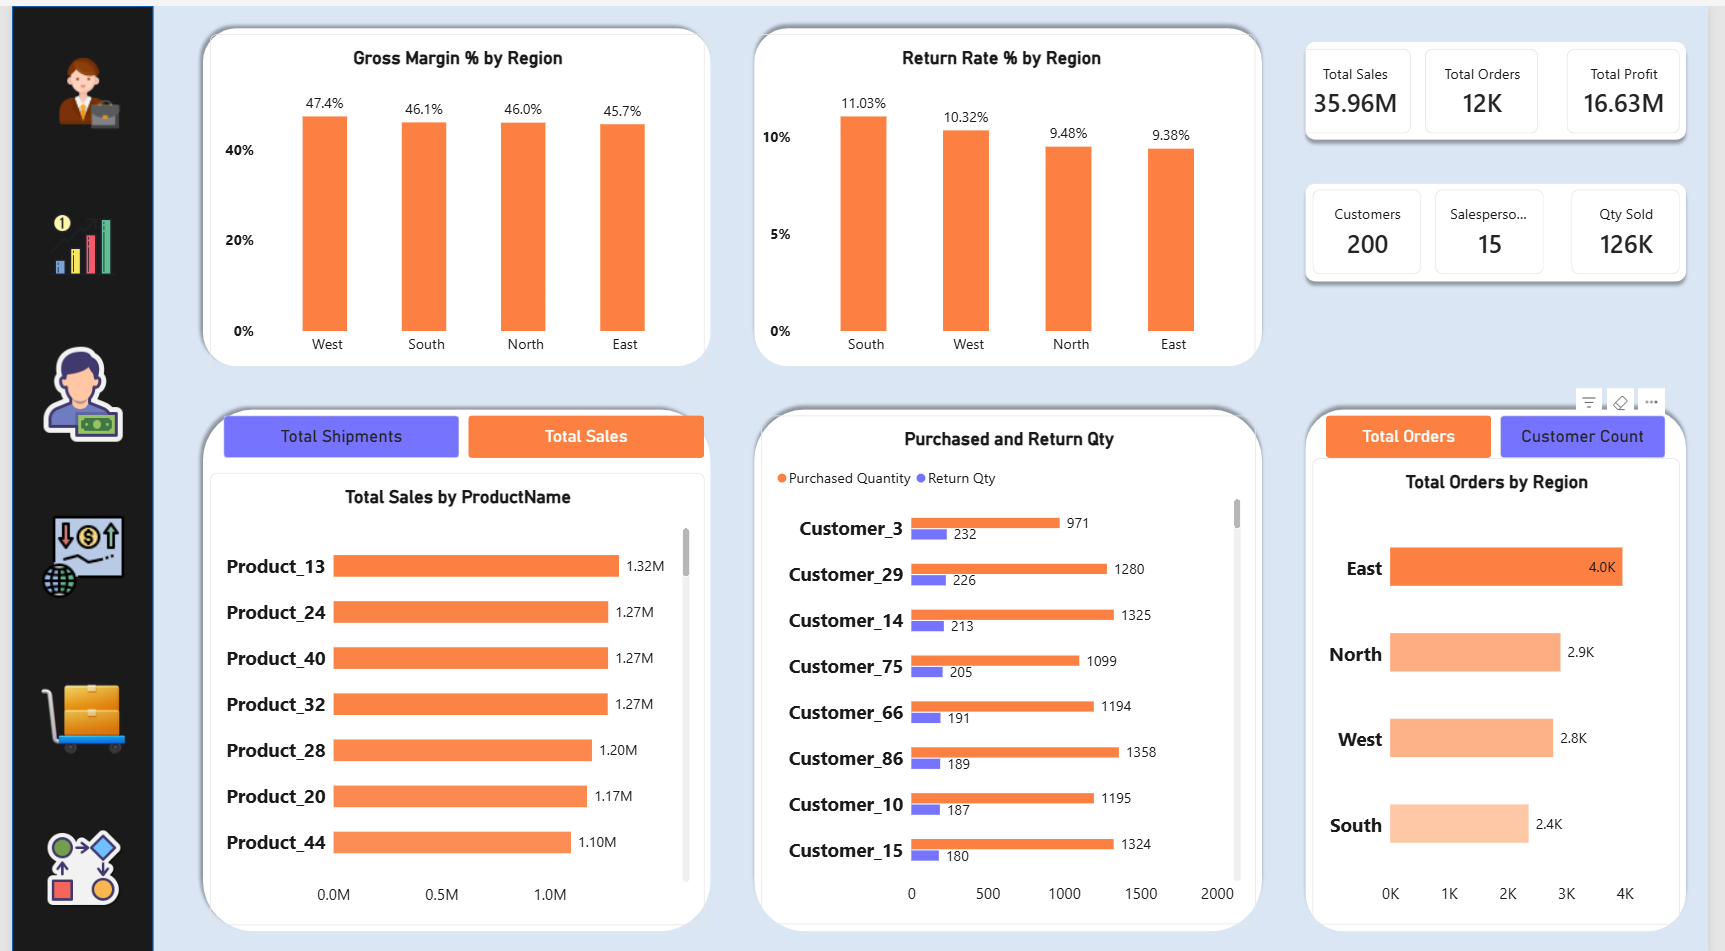

Layout of this report page (visuals, bound fields, positions):
{"tool":"powerbi","page":{"name":"Sales dashbaord","canvas":[1920,1080],"ordinal":1},"visuals":[{"type":"shape","box":[832,16,592,400],"z":0},{"type":"shape","box":[208,16,592,400],"z":1000},{"type":"shape","box":[832,448,592,608],"z":2000},{"type":"shape","box":[208,448,592,608],"z":3000},{"type":"clusteredBarChart","fields":{"Category":["DimProduct.ProductName"],"Y":["_Measure.Total Sales"]},"box":[224,528,560,512],"z":4000},{"type":"shape","box":[0,0,160,1072],"z":5000},{"type":"image","box":[16,224,128,96],"z":6000},{"type":"image","box":[16,576,128,96],"z":7000},{"type":"image","box":[16,384,128,112],"z":8000},{"type":"image","box":[16,48,128,96],"z":9000},{"type":"image","box":[16,752,128,112],"z":10000},{"type":"image","box":[16,928,128,96],"z":11000},{"type":"shape","box":[1456,448,448,608],"z":12000},{"type":"cardVisual","fields":{"Data":["_Measure.Total Profit"]},"box":[1760,48,128,96],"z":13000,"group":"g1"},{"type":"cardVisual","fields":{"Data":["_Measure.Qty Sold{Actual}"]},"box":[1764.7,208,123.3,96],"z":13000,"group":"g2"},{"type":"clusteredBarChart","title":"Purchased and Return Qty ","fields":{"Category":["DimCustomer.CustomerName"],"Y":["Sum(Fact_Sales.Quantity)","Sum(Fact_Returns.ReturnQty)"]},"box":[848,464,560,576],"z":13000},{"type":"clusteredBarChart","fields":{"Category":["Dim_Region.Region"],"Y":["_Measure.Customer Count"]},"box":[1472,512,416,528],"z":14000},{"type":"cardVisual","fields":{"Data":["_Measure.Total Sales"]},"box":[1456,48,128,96],"z":15000,"group":"g1"},{"type":"cardVisual","fields":{"Data":["CountNonNull(DimCustomer.CustomerKey)"]},"box":[1472,208,123.3,96],"z":15000,"group":"g2"},{"type":"advancedSlicerVisual","fields":{"Values":["Sales & Customer Parameter.Region & Customer Parameter"]},"box":[1488,464,384,48],"z":15000},{"type":"cardVisual","fields":{"Data":["_Measure.Total Orders"]},"box":[1600,48,128,96],"z":16000,"group":"g1"},{"type":"cardVisual","fields":{"Data":["CountNonNull(Dim_Salesperson.SalespersonKey)"]},"box":[1610.7,208,123.3,96],"z":16000,"group":"g2"},{"type":"advancedSlicerVisual","fields":{"Values":["Shipments & Sales.Shipments & Sales"]},"box":[240,464,544,48],"z":16000},{"type":"columnChart","fields":{"Category":["Dim_Region.Region"],"Y":["_Measure.Gross Margin %"]},"box":[224,32,560,384],"z":17000},{"type":"columnChart","fields":{"Category":["Dim_Region.Region"],"Y":["_Measure.Return Rate %"]},"box":[832,32,576,384],"z":18000},{"type":"shape","box":[1456,192,448,128],"z":19000},{"type":"shape","box":[1456,32,448,128],"z":20000},{"type":"group","id":"g1","title":"Group 1","box":[1456,48,432,96],"z":21000},{"type":"group","id":"g2","title":"Group 1","box":[1472,208,416,96],"z":22000}]}

Visuals, with their boxes in screenshot pixels (x1, y1, x2, y2), scaled from the page's 1920x1080 canvas onto the 1725x951 screenshot:
shape: left=748, top=14, right=1279, bottom=366
shape: left=187, top=14, right=719, bottom=366
shape: left=748, top=394, right=1279, bottom=930
shape: left=187, top=394, right=719, bottom=930
clusteredBarChart - DimProduct.ProductName x _Measure.Total Sales: left=201, top=465, right=704, bottom=916
shape: left=0, top=0, right=144, bottom=944
image: left=14, top=197, right=129, bottom=282
image: left=14, top=507, right=129, bottom=592
image: left=14, top=338, right=129, bottom=437
image: left=14, top=42, right=129, bottom=127
image: left=14, top=662, right=129, bottom=761
image: left=14, top=817, right=129, bottom=902
shape: left=1308, top=394, right=1711, bottom=930
cardVisual - _Measure.Total Profit: left=1581, top=42, right=1696, bottom=127
cardVisual - _Measure.Qty Sold{Actual}: left=1585, top=183, right=1696, bottom=268
"Purchased and Return Qty " clusteredBarChart: left=762, top=409, right=1265, bottom=916
clusteredBarChart - Dim_Region.Region x _Measure.Customer Count: left=1322, top=451, right=1696, bottom=916
cardVisual - _Measure.Total Sales: left=1308, top=42, right=1423, bottom=127
cardVisual - CountNonNull(DimCustomer.CustomerKey): left=1322, top=183, right=1433, bottom=268
advancedSlicerVisual - Sales & Customer Parameter.Region & Customer Parameter: left=1337, top=409, right=1682, bottom=451
cardVisual - _Measure.Total Orders: left=1438, top=42, right=1552, bottom=127
cardVisual - CountNonNull(Dim_Salesperson.SalespersonKey): left=1447, top=183, right=1558, bottom=268
advancedSlicerVisual - Shipments & Sales.Shipments & Sales: left=216, top=409, right=704, bottom=451
columnChart - Dim_Region.Region x _Measure.Gross Margin %: left=201, top=28, right=704, bottom=366
columnChart - Dim_Region.Region x _Measure.Return Rate %: left=748, top=28, right=1265, bottom=366
shape: left=1308, top=169, right=1711, bottom=282
shape: left=1308, top=28, right=1711, bottom=141
"Group 1" group: left=1308, top=42, right=1696, bottom=127
"Group 1" group: left=1322, top=183, right=1696, bottom=268
